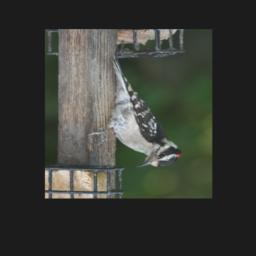Woodpecker: (88, 55, 182, 168)
